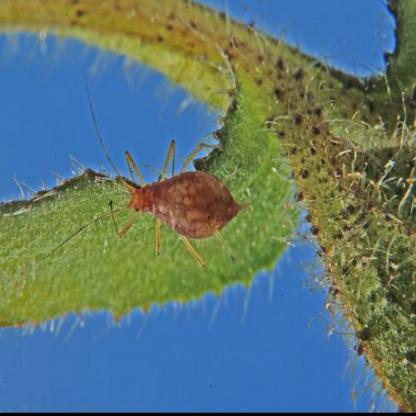aphid: (58, 90, 250, 280)
